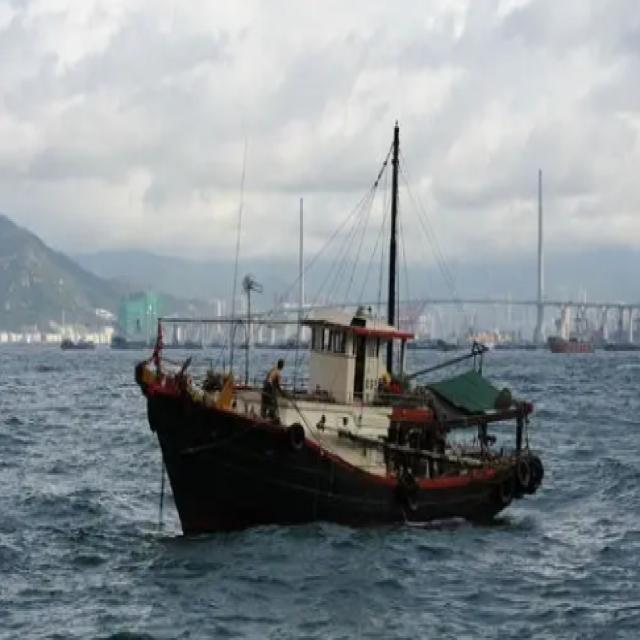fishing boat: (132, 185, 539, 532)
